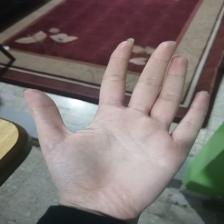five: (23, 37, 216, 197)
